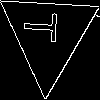T: (23, 10, 66, 44)
